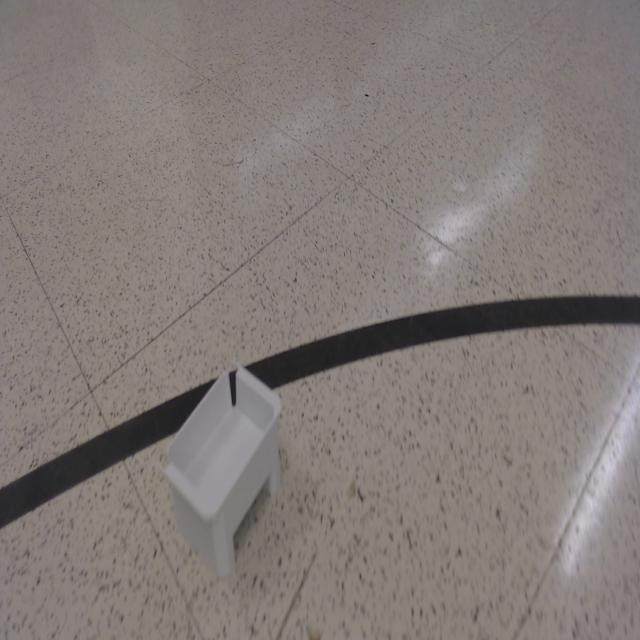wbox: (161, 359, 283, 579)
